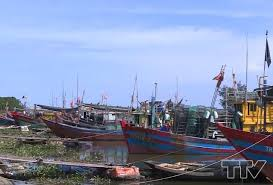tau_dansu: (121, 107, 231, 156), (48, 97, 124, 145), (221, 106, 273, 174)
